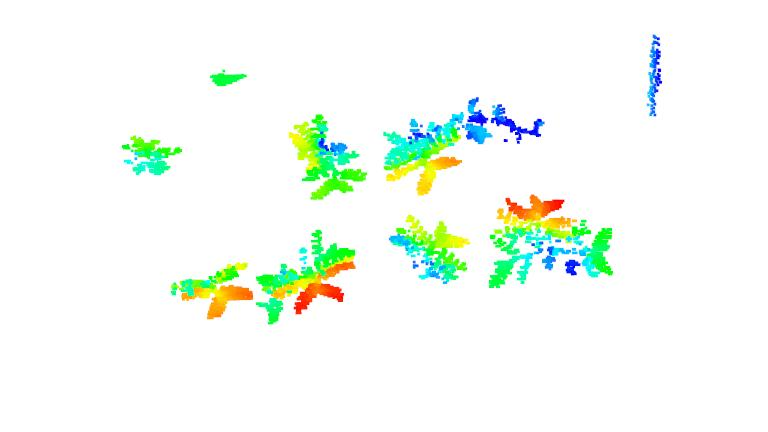chickpea: (483, 193, 613, 286), (258, 228, 358, 323), (382, 115, 472, 197), (285, 114, 369, 201), (389, 215, 471, 285), (169, 261, 260, 320), (445, 96, 543, 145), (120, 133, 185, 178)
